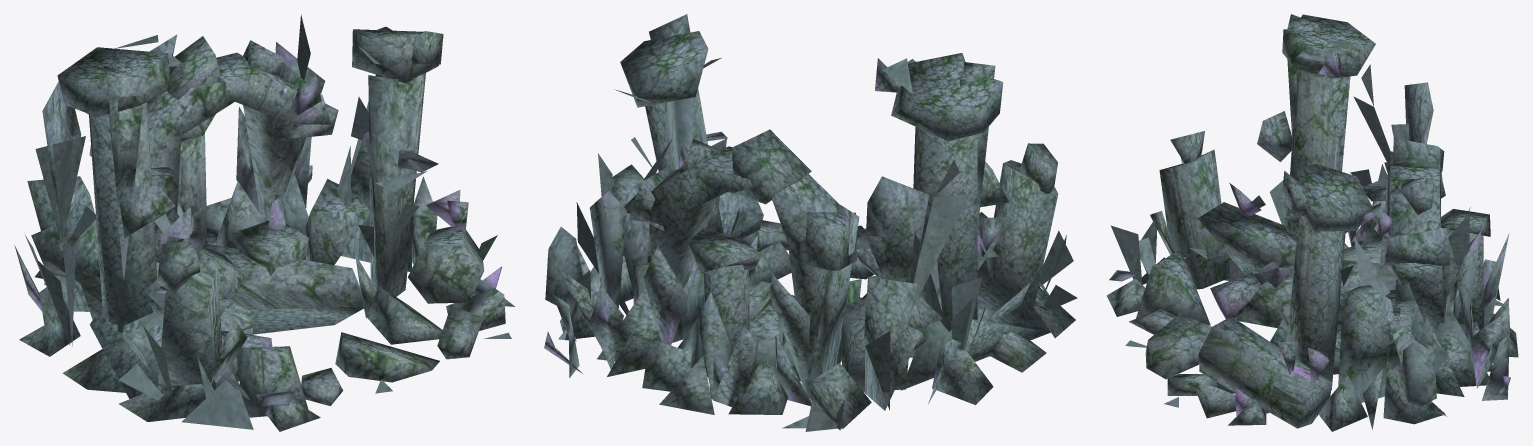
The model's file is ruins.glb.
The picture shows the model from 3 angles, left to right: view 1: azimuth 30°, elevation 25°; view 2: azimuth 150°, elevation 25°; view 3: azimuth 270°, elevation 25°; orthographic projection. The views are drawn at different scales.
Bounding box in the file's own units: 1 × 0.707 × 0.9863.
Materials: 1 (1 with a texture image).
